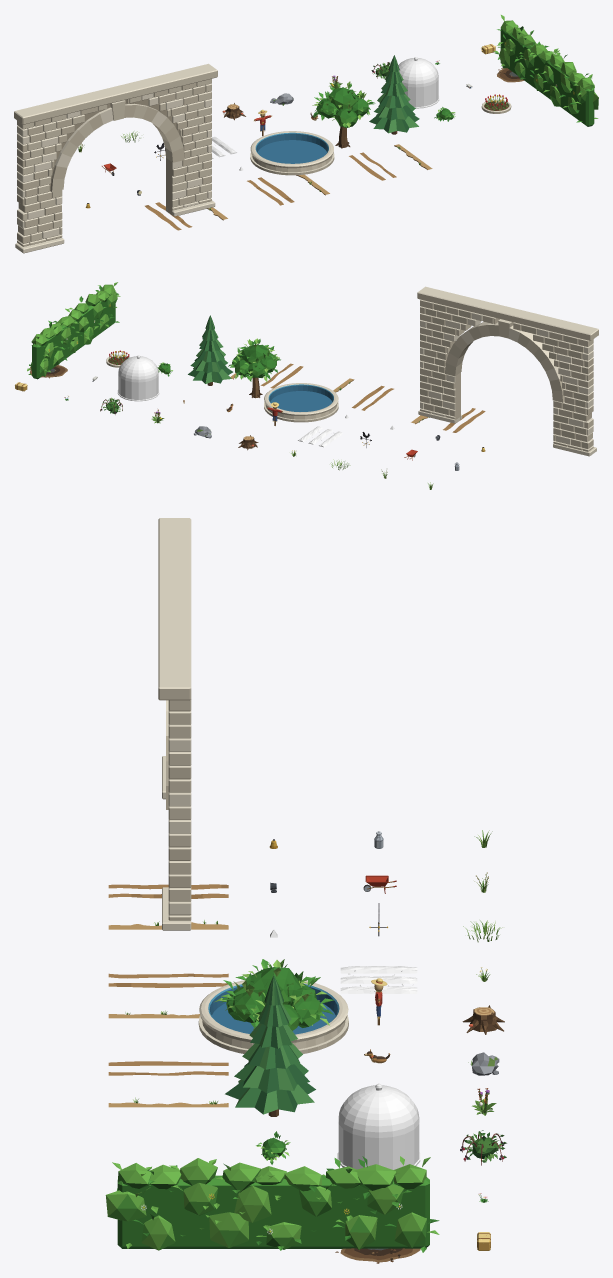
Rendered from FarmHeistProps.glb.
3 renders of one model, top to bottom at view 1: azimuth 30°, elevation 25°; view 2: azimuth 150°, elevation 25°; view 3: azimuth 270°, elevation 25°, orthographic. The views are drawn at different scales.
Parts seen in each view (by area): view 1: TunnelArch, HedgeSection, FountainBasin, PineTree, OakTree, Cloche, FlowerBed, PathWear2; view 2: TunnelArch, HedgeSection, FountainBasin, Cloche, OakTree, PineTree, Furrows; view 3: HedgeSection, TunnelArch, PineTree, Cloche, FountainBasin, OakTree, Furrows, PathWear2, PathWear3.
Boxes of the visible parts, bbox=[...] form: TunnelArch: bbox=[14, 63, 217, 253]; HedgeSection: bbox=[493, 15, 598, 126]; FountainBasin: bbox=[250, 131, 334, 175]; PineTree: bbox=[369, 55, 419, 134]; OakTree: bbox=[312, 81, 375, 148]; Cloche: bbox=[398, 57, 439, 108]; FlowerBed: bbox=[481, 94, 511, 113]; PathWear2: bbox=[247, 177, 294, 205]; TunnelArch: bbox=[417, 286, 598, 456]; HedgeSection: bbox=[27, 282, 120, 379]; FountainBasin: bbox=[264, 383, 338, 422]; Cloche: bbox=[117, 355, 159, 401]; OakTree: bbox=[228, 338, 280, 398]; PineTree: bbox=[188, 315, 232, 385]; Furrows: bbox=[298, 426, 342, 447]; HedgeSection: bbox=[105, 1156, 439, 1252]; TunnelArch: bbox=[158, 518, 191, 930]; PineTree: bbox=[225, 975, 315, 1116]; Cloche: bbox=[337, 1083, 420, 1169]; FountainBasin: bbox=[198, 980, 348, 1053]; OakTree: bbox=[214, 959, 333, 1030]; Furrows: bbox=[340, 966, 417, 993]; PathWear2: bbox=[108, 973, 228, 987]; PathWear3: bbox=[108, 1061, 228, 1075].
Size of the model in its own units: 158 by 36.38 by 53.49.
2 materials, 1 textured.
